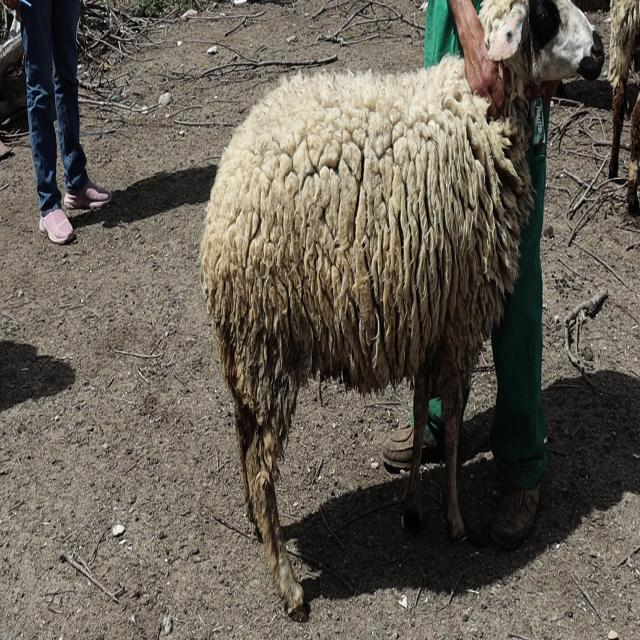Score_2: (200, 0, 604, 616)
